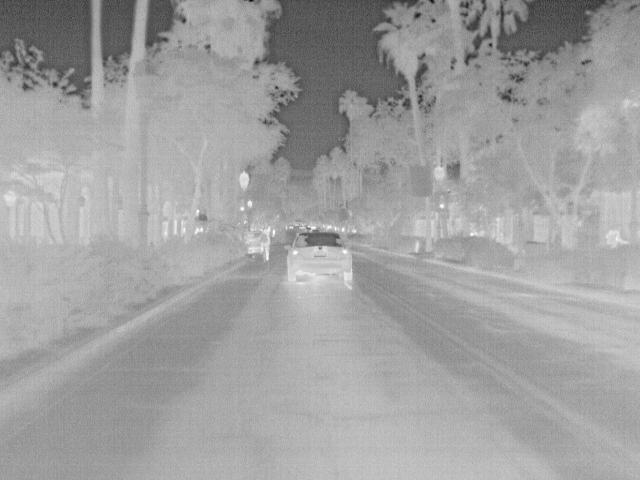car: (286, 228, 355, 283), (242, 229, 264, 256)
person: (261, 226, 274, 263)
